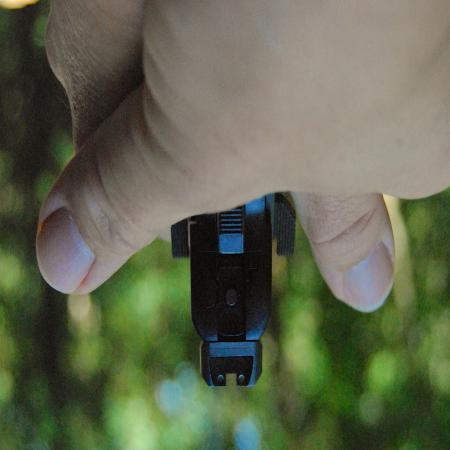Pistol: (163, 180, 309, 388)
